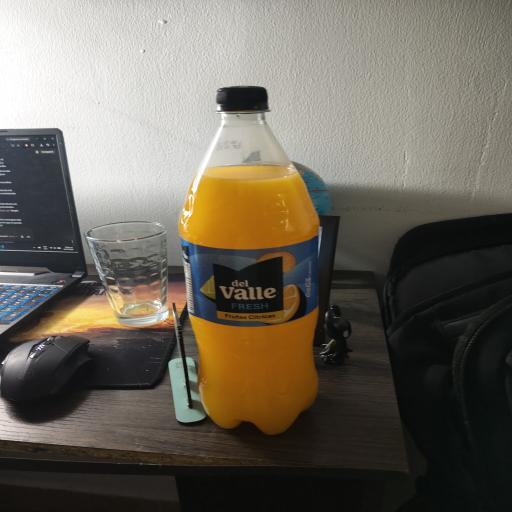Jugo del valle: (179, 87, 318, 434)
